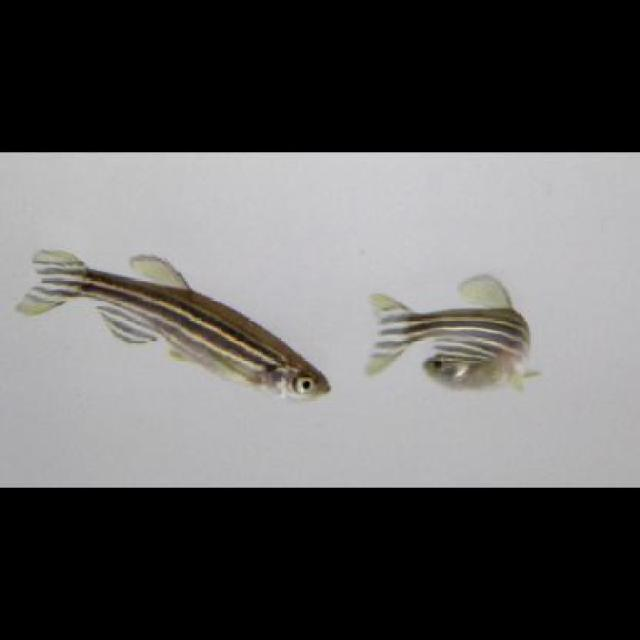ZebraFish: (21, 246, 332, 397)
